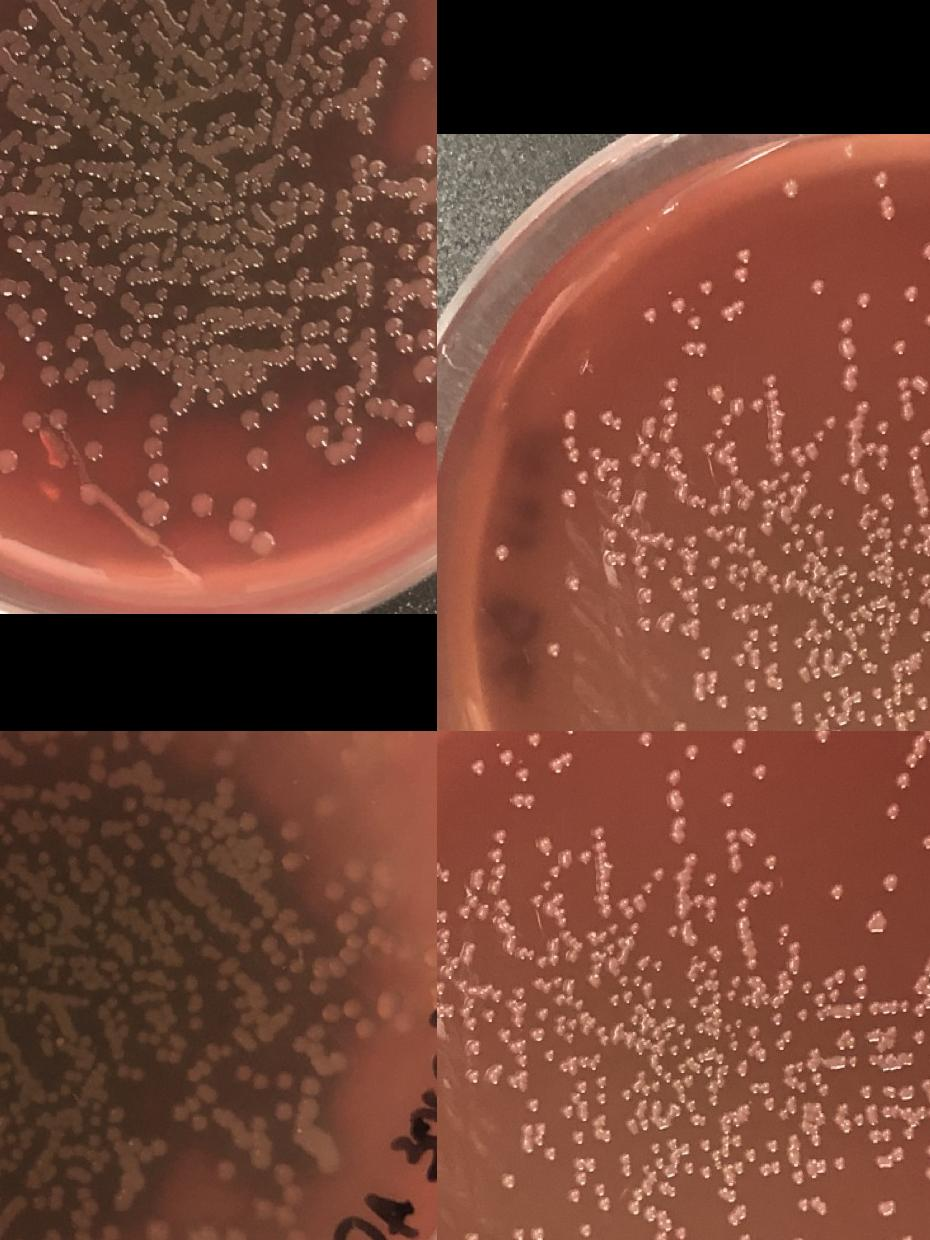assalmonicida: (762, 373, 786, 466), (590, 825, 614, 918), (586, 920, 636, 955), (813, 969, 846, 1021), (759, 468, 808, 503), (736, 914, 760, 970), (908, 462, 930, 518), (897, 981, 930, 1017), (750, 559, 782, 594), (578, 1011, 610, 1046), (590, 445, 622, 479), (814, 611, 846, 644), (642, 1063, 674, 1096), (805, 1058, 831, 1096), (903, 731, 930, 767), (786, 520, 828, 543), (614, 972, 656, 995), (704, 521, 748, 542), (532, 973, 576, 994), (692, 668, 720, 700), (520, 1120, 548, 1152), (458, 892, 491, 918), (630, 440, 662, 466), (572, 1156, 600, 1185), (708, 487, 734, 516), (536, 939, 562, 968), (726, 560, 750, 591), (458, 993, 478, 1030), (704, 439, 736, 462), (532, 891, 564, 914), (896, 374, 913, 417), (724, 826, 741, 869), (864, 442, 891, 469), (744, 704, 771, 731), (630, 542, 650, 578), (555, 1012, 578, 1043), (848, 598, 880, 620), (676, 1050, 708, 1072), (692, 894, 718, 921), (796, 1194, 828, 1214), (736, 482, 758, 511), (722, 1160, 746, 1186), (564, 934, 586, 962), (712, 413, 734, 440), (540, 864, 562, 891), (829, 1001, 866, 1017), (838, 1112, 866, 1133), (720, 299, 746, 321), (548, 751, 574, 773), (894, 708, 918, 731), (598, 409, 624, 430), (823, 650, 843, 677), (651, 1102, 671, 1129), (502, 940, 529, 960), (774, 1028, 796, 1052), (674, 488, 701, 507), (786, 443, 808, 466), (614, 895, 636, 918), (836, 684, 864, 702), (884, 1084, 912, 1102), (664, 1136, 692, 1154), (628, 1186, 646, 1214), (592, 1182, 610, 1210), (756, 1159, 784, 1176), (779, 536, 805, 554), (562, 436, 580, 462), (843, 362, 858, 392), (816, 544, 846, 559), (746, 881, 776, 896), (671, 814, 686, 844), (644, 996, 674, 1011), (607, 989, 633, 1006), (613, 502, 633, 524), (441, 954, 461, 976), (657, 608, 676, 631), (485, 1060, 504, 1083), (886, 598, 904, 622), (878, 194, 896, 218), (742, 628, 760, 652), (714, 1050, 732, 1074), (570, 1080, 588, 1104), (608, 472, 622, 502), (437, 897, 449, 931), (686, 584, 700, 613), (514, 1036, 528, 1065), (797, 580, 817, 600), (625, 1032, 645, 1052), (602, 550, 628, 565), (646, 1015, 664, 1036), (437, 924, 450, 953), (682, 342, 708, 356), (868, 1128, 894, 1142), (746, 1080, 772, 1094), (510, 794, 536, 808), (728, 1204, 746, 1224), (618, 1152, 633, 1176), (818, 563, 835, 584), (896, 564, 918, 580), (724, 1016, 746, 1032), (790, 700, 804, 725), (642, 413, 656, 438), (667, 790, 684, 810), (879, 629, 892, 654), (707, 1081, 720, 1106), (839, 338, 856, 357), (470, 866, 484, 889), (880, 490, 896, 510), (718, 1186, 738, 1202), (708, 942, 724, 962), (437, 861, 452, 882), (437, 1002, 456, 1017), (920, 235, 930, 260), (892, 661, 904, 681), (720, 1113, 732, 1133), (913, 377, 928, 391), (813, 428, 828, 442), (767, 638, 782, 652), (725, 539, 740, 553), (699, 279, 714, 293), (667, 447, 682, 461), (896, 772, 911, 786), (809, 1132, 824, 1146), (796, 1006, 811, 1020), (741, 829, 756, 843), (686, 995, 701, 1009), (673, 1226, 688, 1240), (641, 880, 656, 894), (618, 1087, 633, 1101), (553, 991, 568, 1005), (531, 1026, 546, 1040), (495, 899, 510, 913), (489, 847, 504, 861), (486, 879, 501, 893), (737, 1232, 763, 1240), (914, 696, 928, 710), (907, 608, 921, 622), (903, 287, 917, 301), (893, 340, 907, 354), (870, 685, 884, 699), (870, 712, 884, 726), (858, 543, 872, 557), (856, 292, 870, 306), (838, 316, 852, 330), (836, 471, 850, 485), (824, 414, 838, 428), (820, 688, 834, 702), (810, 279, 824, 293), (808, 504, 822, 518), (800, 468, 814, 482), (797, 663, 811, 677), (790, 635, 804, 649), (783, 180, 797, 194), (766, 622, 780, 636), (765, 674, 779, 688), (758, 522, 772, 536), (750, 397, 764, 411), (743, 678, 757, 692), (737, 248, 751, 262), (733, 268, 747, 282), (729, 398, 743, 412), (729, 606, 743, 620), (715, 595, 729, 609), (715, 694, 729, 708), (708, 554, 722, 568), (704, 574, 718, 588), (698, 646, 712, 660), (684, 532, 698, 546), (670, 298, 684, 312), (669, 575, 683, 589), (664, 377, 678, 391), (664, 412, 678, 426), (662, 395, 676, 409), (658, 427, 672, 441), (638, 588, 652, 602), (633, 488, 647, 502), (576, 470, 590, 484), (562, 491, 576, 505), (902, 1126, 916, 1140), (902, 1051, 916, 1065), (891, 1147, 905, 1161), (885, 804, 899, 818), (884, 874, 898, 888), (867, 1002, 881, 1016), (860, 1084, 874, 1098), (846, 1054, 860, 1068), (831, 883, 845, 897), (814, 1159, 828, 1173), (799, 980, 813, 994), (792, 1169, 806, 1183), (789, 940, 803, 954), (776, 1106, 790, 1120), (771, 1010, 785, 1024), (766, 1138, 780, 1152), (764, 855, 778, 869), (762, 1097, 776, 1111), (746, 1023, 760, 1037), (746, 973, 760, 987), (742, 1148, 756, 1162), (735, 1060, 749, 1074), (731, 739, 745, 753), (721, 792, 735, 806), (698, 1137, 712, 1151), (698, 1164, 712, 1178), (684, 744, 698, 758), (666, 768, 680, 782), (664, 923, 678, 937), (658, 1180, 672, 1194), (657, 1215, 671, 1229), (652, 866, 666, 880), (648, 1140, 662, 1154), (643, 1206, 657, 1220), (638, 731, 652, 745), (636, 956, 650, 970), (628, 920, 642, 934), (625, 1115, 639, 1129), (596, 1090, 610, 1104), (594, 1074, 608, 1088), (593, 1126, 607, 1140), (586, 974, 600, 988), (578, 849, 592, 863), (571, 1130, 585, 1144), (568, 1188, 582, 1202), (557, 850, 571, 864), (557, 1058, 571, 1072), (543, 1047, 557, 1061), (543, 1146, 557, 1160), (536, 1006, 550, 1020), (528, 731, 542, 745), (526, 1098, 540, 1112), (512, 984, 526, 998), (511, 1226, 525, 1240), (498, 750, 512, 764), (497, 1027, 511, 1041), (492, 829, 506, 843), (492, 864, 506, 878), (466, 1040, 480, 1054), (461, 940, 475, 954), (751, 764, 766, 777), (920, 1078, 930, 1097), (900, 586, 913, 600), (874, 172, 888, 185), (826, 704, 840, 717), (726, 462, 740, 475), (687, 316, 701, 329), (644, 307, 657, 321), (854, 983, 868, 996), (853, 965, 867, 978), (728, 1038, 741, 1052), (652, 958, 666, 971), (604, 958, 618, 971), (531, 1227, 545, 1240), (515, 767, 529, 780), (472, 759, 485, 773), (918, 429, 930, 444), (776, 506, 791, 518), (566, 578, 581, 590), (796, 1080, 811, 1092), (481, 1008, 496, 1020), (918, 571, 930, 585), (918, 521, 930, 535), (902, 682, 916, 694), (896, 537, 910, 549), (864, 570, 878, 582), (854, 710, 868, 722), (840, 652, 854, 664), (824, 506, 838, 518), (804, 441, 818, 453), (710, 388, 724, 400), (662, 536, 676, 548), (654, 556, 668, 568), (605, 530, 619, 542), (562, 412, 576, 424), (912, 1030, 926, 1042), (878, 1202, 892, 1214), (876, 1156, 890, 1168), (834, 1156, 848, 1168), (788, 1155, 802, 1167), (730, 1134, 744, 1146), (724, 989, 738, 1001), (692, 1022, 706, 1034), (682, 1162, 696, 1174), (668, 1104, 682, 1116), (654, 1156, 668, 1168), (579, 1224, 593, 1236), (554, 914, 568, 926), (538, 840, 552, 852), (502, 1174, 516, 1186), (490, 988, 504, 1000), (918, 628, 930, 641), (879, 514, 892, 526), (707, 966, 720, 978), (633, 893, 646, 905), (902, 522, 914, 534), (882, 697, 894, 709), (878, 421, 890, 433), (874, 612, 886, 624), (866, 530, 878, 542), (862, 661, 874, 673), (858, 516, 870, 528), (857, 400, 869, 412), (857, 481, 869, 493), (857, 647, 869, 659), (854, 585, 866, 597), (854, 622, 866, 634), (848, 569, 860, 581), (840, 591, 852, 603), (807, 616, 819, 628), (764, 599, 776, 611), (744, 545, 756, 557), (735, 653, 747, 665), (679, 623, 691, 635), (639, 618, 651, 630), (548, 643, 560, 655), (496, 546, 508, 558), (786, 1092, 798, 1104), (756, 1049, 768, 1061), (730, 974, 742, 986), (710, 1149, 722, 1161), (706, 873, 718, 885), (702, 1064, 714, 1076), (694, 982, 706, 994), (690, 1113, 702, 1125), (686, 968, 698, 980), (685, 852, 697, 864), (685, 933, 697, 945), (685, 1099, 697, 1111), (682, 1037, 694, 1049), (682, 1074, 694, 1086), (676, 1021, 688, 1033), (668, 1043, 680, 1055), (635, 1068, 647, 1080), (592, 1051, 604, 1063), (572, 997, 584, 1009), (563, 1105, 575, 1117), (507, 1075, 519, 1087), (467, 1070, 479, 1082), (674, 721, 688, 731), (920, 835, 930, 849), (437, 981, 447, 994), (815, 731, 829, 740), (654, 1231, 668, 1240), (923, 311, 930, 325), (923, 1165, 930, 1179), (901, 1233, 915, 1240), (924, 1144, 930, 1158), (466, 1233, 478, 1240), (830, 728, 844, 731), (791, 1237, 805, 1240), (927, 597, 930, 609)
vangil: (324, 380, 369, 465), (228, 494, 274, 554), (413, 215, 437, 309), (300, 45, 345, 94), (4, 302, 51, 342), (136, 1029, 187, 1063), (299, 315, 351, 346), (192, 361, 226, 407), (207, 274, 261, 302), (364, 396, 416, 425), (349, 152, 387, 186), (349, 324, 378, 368), (340, 101, 374, 136), (63, 320, 96, 354), (84, 377, 116, 412), (384, 316, 414, 353), (129, 1136, 168, 1164), (276, 180, 326, 201), (138, 490, 168, 524), (382, 9, 409, 45), (316, 2, 342, 38), (366, 218, 402, 243), (62, 354, 92, 384), (87, 1098, 105, 1147), (156, 324, 178, 364), (384, 274, 407, 312), (168, 384, 198, 413), (116, 320, 157, 340), (278, 305, 300, 342), (172, 1097, 200, 1120), (71, 296, 99, 318), (186, 1059, 214, 1081), (115, 1061, 144, 1082), (408, 56, 432, 81), (415, 353, 437, 380), (246, 447, 270, 471), (288, 145, 314, 167), (414, 142, 437, 166), (414, 420, 437, 444), (332, 217, 356, 240), (306, 422, 329, 446), (196, 1081, 218, 1104), (238, 48, 256, 73), (378, 178, 400, 198), (222, 198, 246, 216), (34, 340, 55, 360), (258, 850, 272, 880), (200, 942, 222, 961), (348, 18, 374, 34), (417, 329, 437, 349), (335, 304, 355, 324), (306, 399, 326, 419), (302, 219, 322, 239), (272, 244, 292, 264), (262, 390, 282, 410), (239, 409, 259, 429), (193, 494, 213, 514), (171, 302, 191, 322), (152, 283, 172, 303), (125, 266, 145, 286), (83, 440, 103, 460), (48, 408, 68, 428), (22, 411, 42, 431), (14, 278, 34, 298), (6, 232, 26, 252), (318, 350, 337, 370), (143, 437, 163, 456), (40, 366, 60, 385), (398, 242, 416, 262), (150, 412, 168, 432), (102, 194, 122, 212), (20, 217, 40, 235), (18, 10, 38, 28), (369, 56, 388, 74), (150, 464, 168, 483), (0, 450, 17, 470), (306, 110, 324, 128), (56, 272, 74, 290), (276, 1206, 294, 1224), (275, 1164, 293, 1182), (216, 1162, 234, 1180), (92, 17, 110, 33), (236, 1011, 254, 1027), (1, 214, 18, 230), (345, 934, 362, 950), (252, 1074, 269, 1090), (249, 1116, 266, 1132), (241, 1035, 258, 1051), (8, 174, 26, 189), (46, 26, 62, 42), (38, 64, 54, 80), (262, 935, 278, 951), (246, 982, 262, 998), (270, 952, 287, 967), (174, 7, 190, 22), (54, 43, 69, 59), (275, 1103, 290, 1119), (274, 975, 290, 990), (109, 1105, 124, 1121), (103, 1224, 118, 1240), (96, 234, 110, 250), (26, 51, 40, 67), (192, 1116, 208, 1130), (286, 1228, 304, 1240), (356, 294, 370, 308), (336, 188, 350, 202), (334, 258, 348, 272), (320, 265, 334, 279), (300, 94, 314, 108), (296, 265, 310, 279), (260, 95, 274, 109), (256, 27, 270, 41), (228, 230, 242, 244), (217, 56, 231, 70), (216, 164, 230, 178), (310, 979, 324, 993), (289, 959, 303, 973), (250, 916, 264, 930), (236, 939, 250, 953), (236, 1066, 250, 1080), (218, 978, 232, 992), (211, 824, 225, 838), (188, 928, 202, 942), (137, 813, 151, 827), (122, 796, 136, 810), (90, 747, 104, 761), (76, 819, 90, 833), (44, 742, 58, 756), (301, 200, 314, 214), (298, 12, 312, 25), (303, 930, 317, 943), (277, 1074, 290, 1088), (0, 74, 11, 90), (339, 39, 352, 52), (264, 280, 278, 292), (196, 34, 210, 46), (282, 1002, 296, 1014), (188, 1018, 202, 1030), (183, 978, 197, 990), (36, 852, 50, 864), (0, 171, 7, 189), (110, 0, 127, 5), (0, 362, 4, 382)
